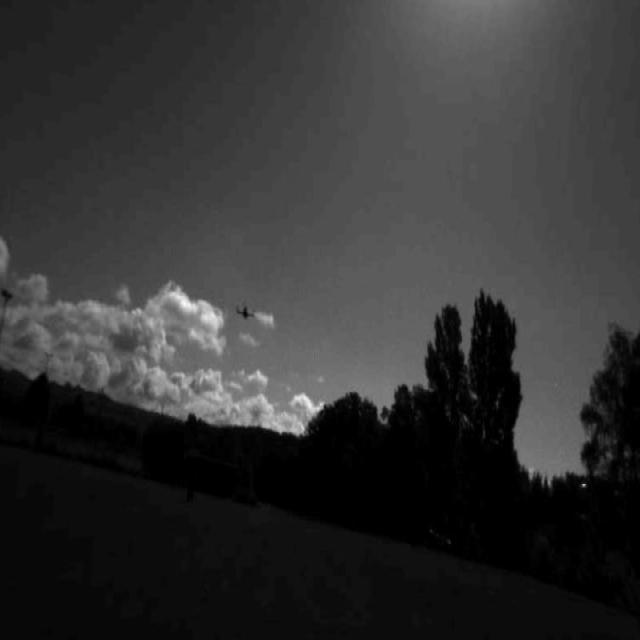drone: (234, 298, 256, 322)
